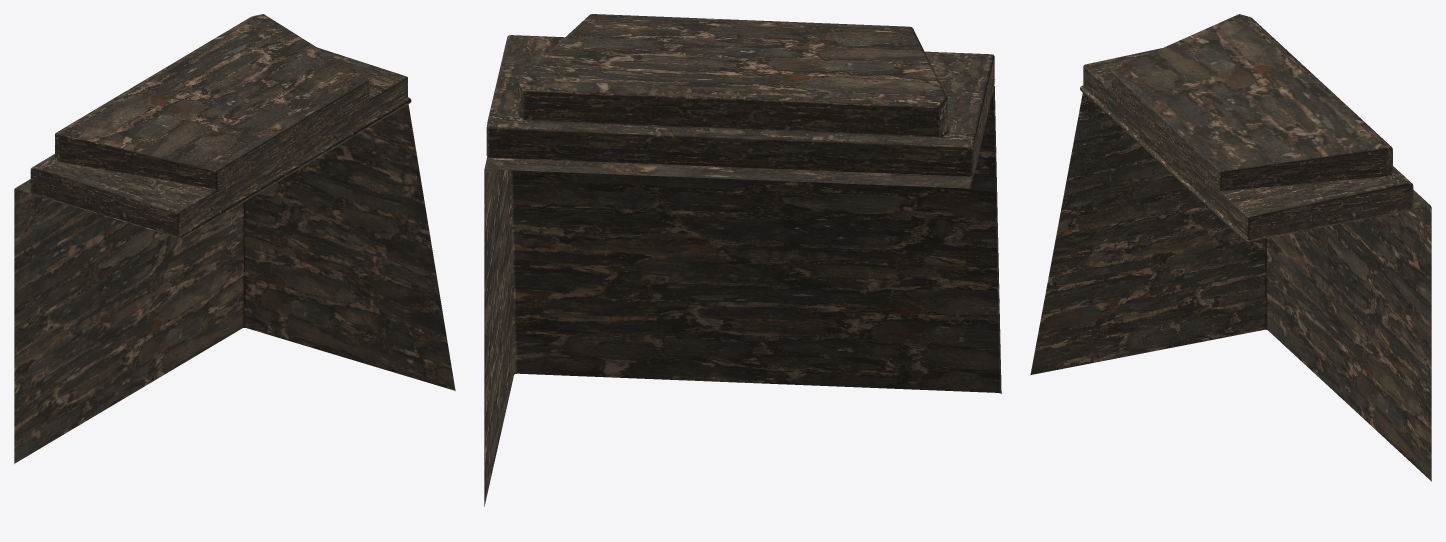
The model's file is block_21.glb.
3 renders of one model, left to right at view 1: azimuth 30°, elevation 25°; view 2: azimuth 150°, elevation 25°; view 3: azimuth 270°, elevation 25°, orthographic. The views are drawn at different scales.
Parts seen in each view (by area): view 1: block_21; view 2: block_21; view 3: block_21.
Part boxes in pixels (<box>): block_21: <box>14,14,455,463</box>; block_21: <box>484,14,1001,506</box>; block_21: <box>1030,14,1431,481</box>.
Bounding box in the file's own units: 2.4 × 1.88 × 2.05.
2 materials, 2 textured.
